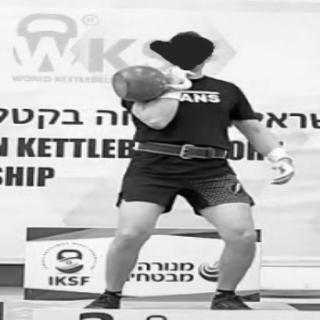kettlebell: (112, 64, 197, 104)
